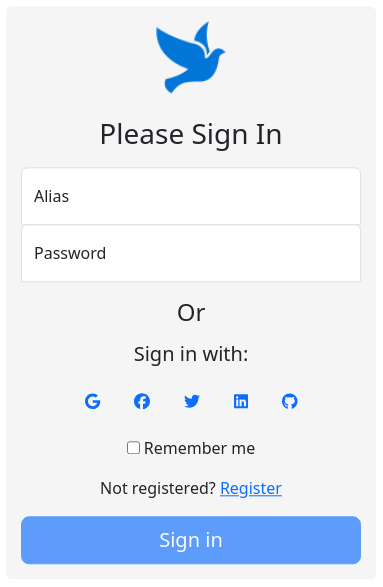
Login Component › The sign in button is enabled if both the alias and password fields have text
Type "a" into the field labelled "Alias" at [191, 196], box left=21, top=167, right=361, bottom=225
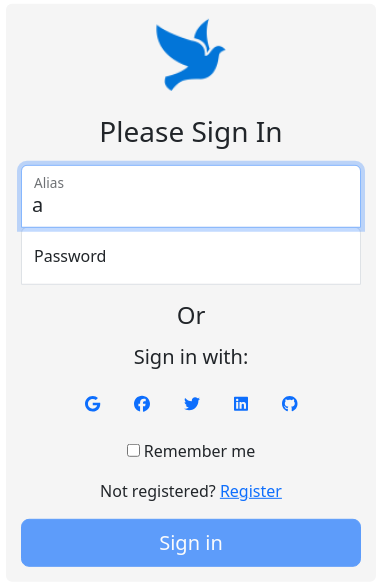
Type "b" into the password field labelled "Password" at [191, 255], box left=21, top=226, right=361, bottom=284
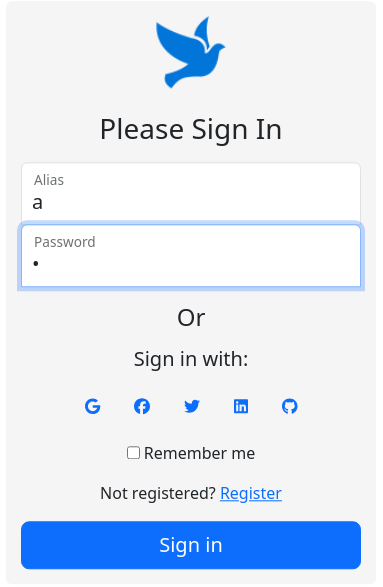
Now the button with aria-label "submitButton" is enabled, box left=21, top=522, right=361, bottom=570
